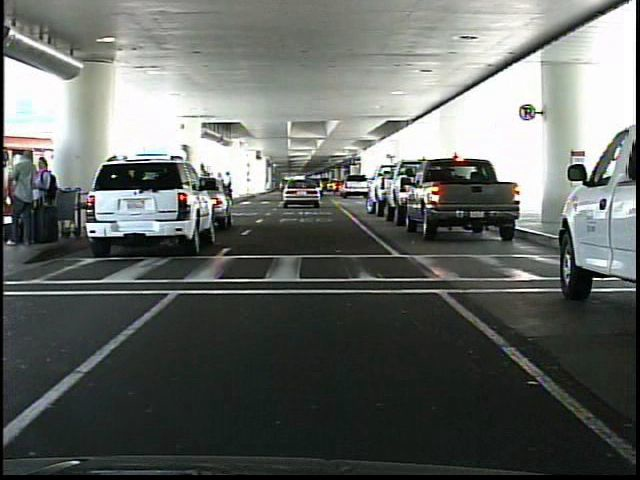person: (9, 148, 42, 246), (33, 157, 60, 246)
